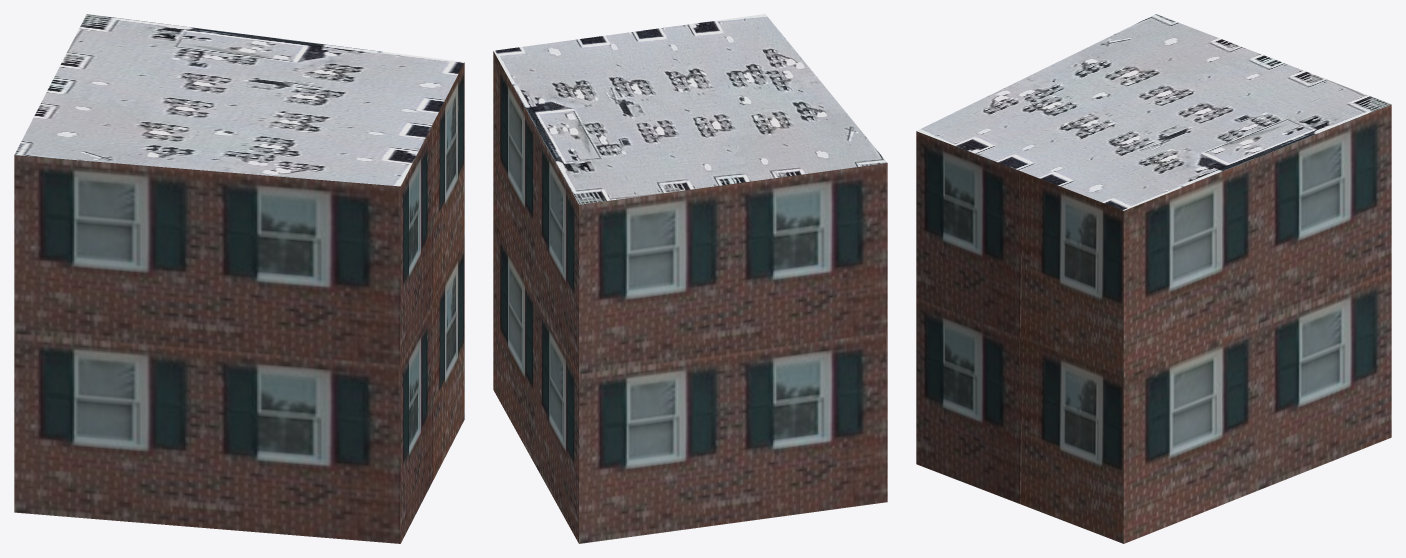
The model's file is ResTex__2987.fbx.
The picture shows the model from 3 angles, left to right: view 1: azimuth 30°, elevation 25°; view 2: azimuth 150°, elevation 25°; view 3: azimuth 270°, elevation 25°; orthographic projection. The views are drawn at different scales.
Visible parts, largest first — view 1: CityEngineMaterial_14_m, CityEngineMaterial_8_m; view 2: CityEngineMaterial_14_m, CityEngineMaterial_8_m; view 3: CityEngineMaterial_14_m, CityEngineMaterial_8_m.
Part boxes in pixels (x1=…): CityEngineMaterial_14_m: x1=14, y1=62, x2=464, y2=543; CityEngineMaterial_8_m: x1=14, y1=14, x2=464, y2=186; CityEngineMaterial_14_m: x1=493, y1=51, x2=887, y2=543; CityEngineMaterial_8_m: x1=493, y1=14, x2=887, y2=204; CityEngineMaterial_14_m: x1=916, y1=104, x2=1391, y2=543; CityEngineMaterial_8_m: x1=916, y1=14, x2=1391, y2=210.
Bounding box in the file's own units: 7.6 × 6 × 7.76.
2 materials, 2 textured.
